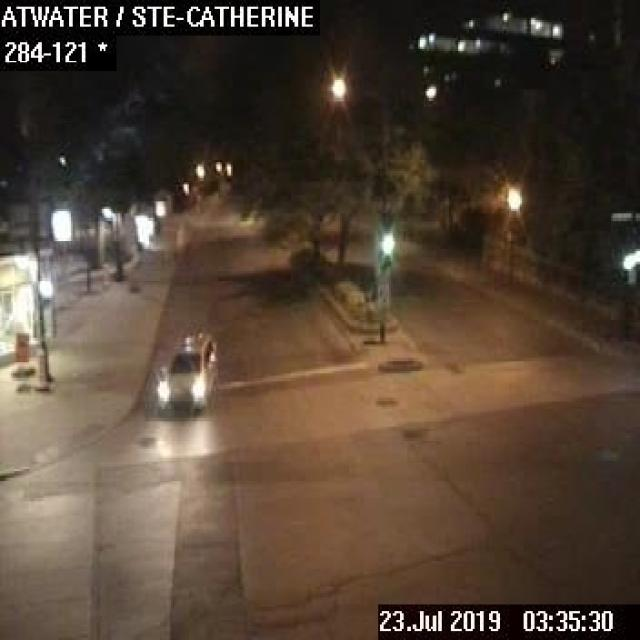vehicle: (154, 329, 218, 409)
